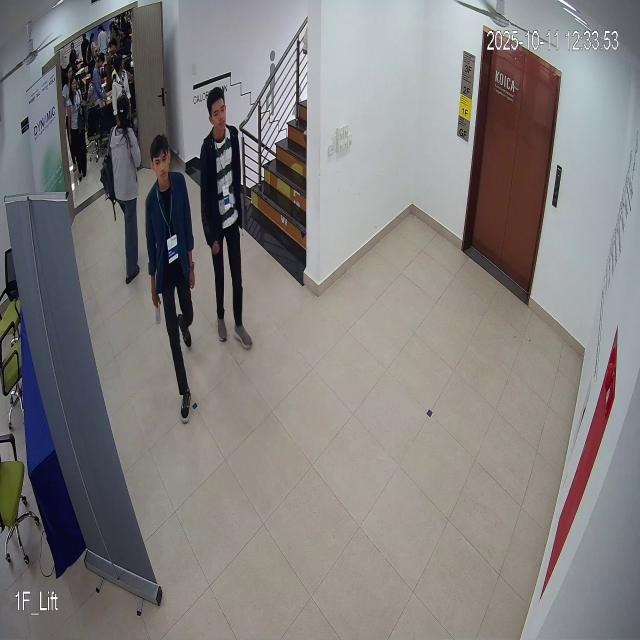face: (145, 130, 181, 192), (206, 84, 229, 137)
